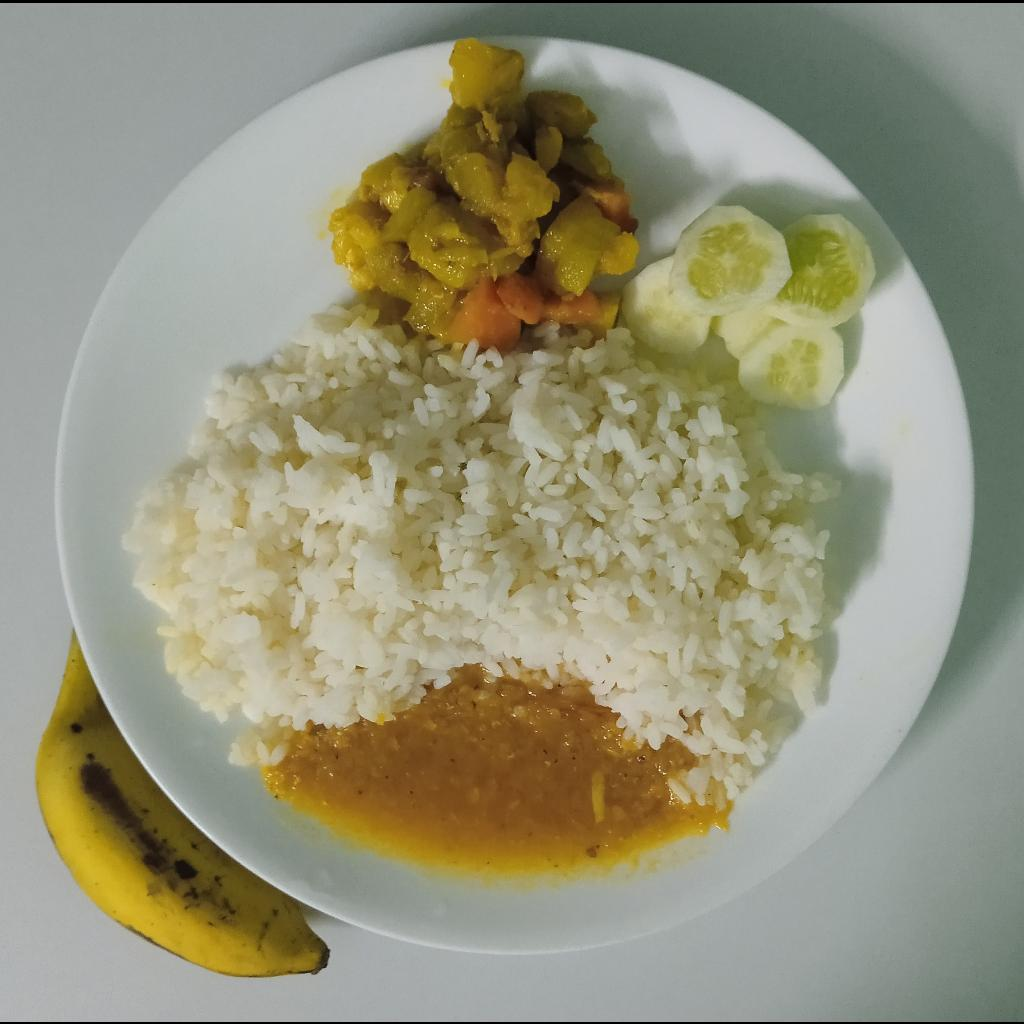banana: (33, 630, 330, 981)
cucumber: (620, 204, 877, 411)
daal: (261, 663, 737, 878)
rice: (123, 302, 843, 801)
vegetable: (330, 39, 641, 353)
